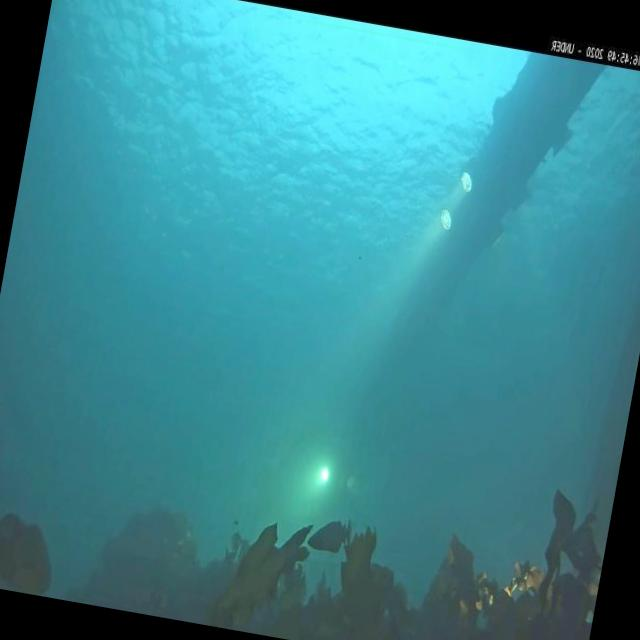fish: (305, 511, 355, 557)
